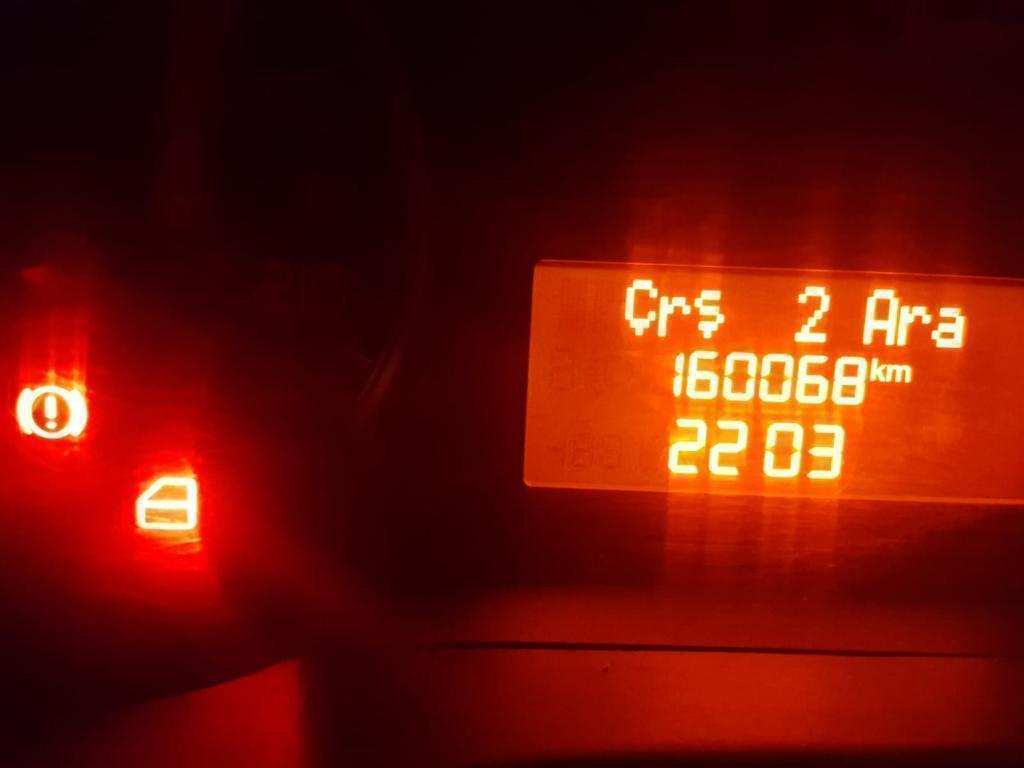0: (760, 418, 807, 481), (722, 348, 758, 405), (757, 348, 793, 405)
1: (663, 349, 686, 402)
2: (791, 281, 836, 346), (665, 413, 709, 479), (707, 416, 751, 481)
3: (806, 420, 847, 483)
6: (686, 347, 722, 402), (794, 353, 831, 406)
8: (831, 354, 868, 408)
X: (861, 283, 899, 348), (621, 276, 658, 342), (930, 303, 969, 351), (694, 284, 725, 341), (658, 293, 692, 340), (900, 303, 932, 348), (886, 359, 914, 385), (867, 352, 885, 385)
odometer: (509, 247, 1024, 513)
